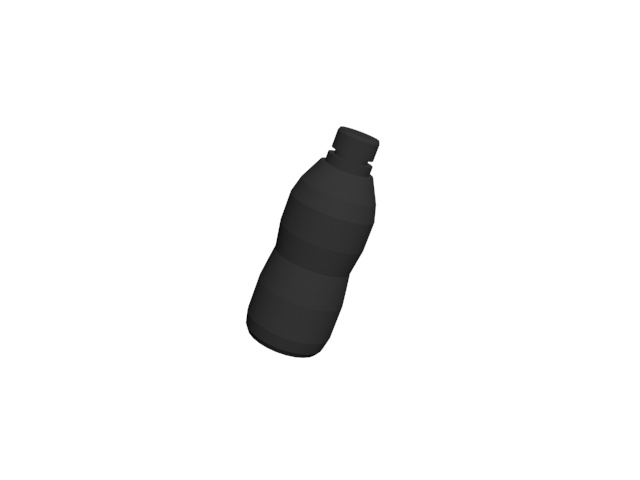bottle: (241, 121, 384, 360)
